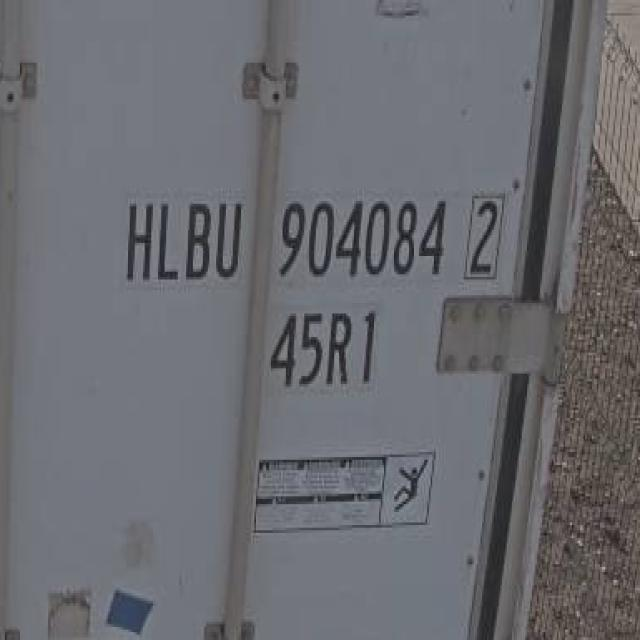dv: (458, 183, 504, 286)
owner: (117, 185, 246, 290)
serial: (268, 184, 451, 286)
size: (265, 296, 380, 402)
